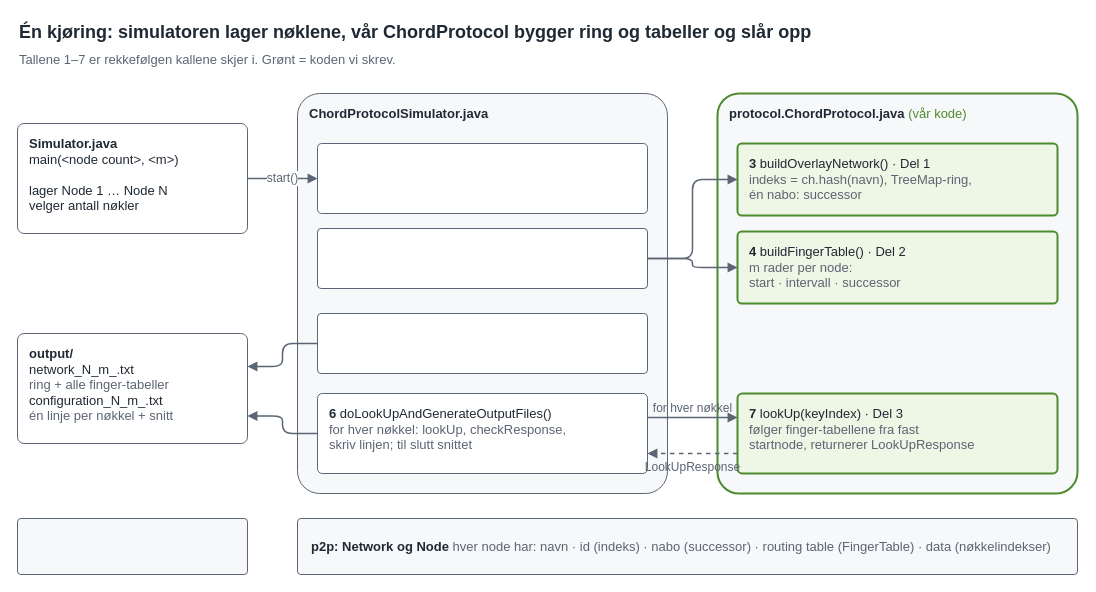
This 1096x592 diagram has some shape labels left out. Here are the shapes that lost their labels. From the top down, the centre of each, then its label:
At [482,178]: "1 assignKeys() hasher «key i», legger indeksen i data hos successor-noden".
At [482,258]: "2 buildProtocol() setNetwork + kaller 3 og 4".
At [482,343]: "5 printNetworkToFile() printRing + printNetwork til fil".
At [132,546]: "crypto: ConsistentHashing hash(tekst) = MD5 mod 2^m".
